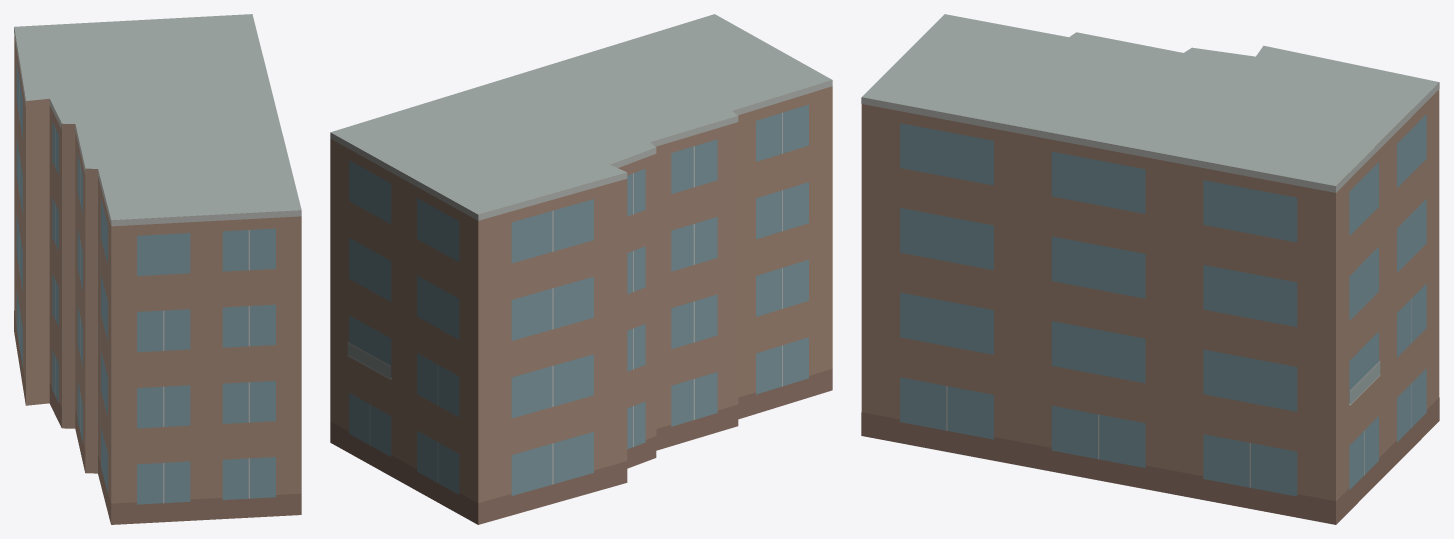
Rendered from survey-upis-32952753.glb.
3 renders of one model, left to right at view 1: azimuth 30°, elevation 25°; view 2: azimuth 150°, elevation 25°; view 3: azimuth 270°, elevation 25°, orthographic. The views are drawn at different scales.
Parts seen in each view (by area): view 1: survey-upis-32952753.tmp; view 2: survey-upis-32952753.tmp; view 3: survey-upis-32952753.tmp.
Part boxes in pixels (bbox=[...]): survey-upis-32952753.tmp: bbox=[14, 14, 301, 524]; survey-upis-32952753.tmp: bbox=[330, 14, 832, 524]; survey-upis-32952753.tmp: bbox=[861, 14, 1439, 524].
Bounding box in the file's own units: 13.31 × 12.2 × 18.88.
